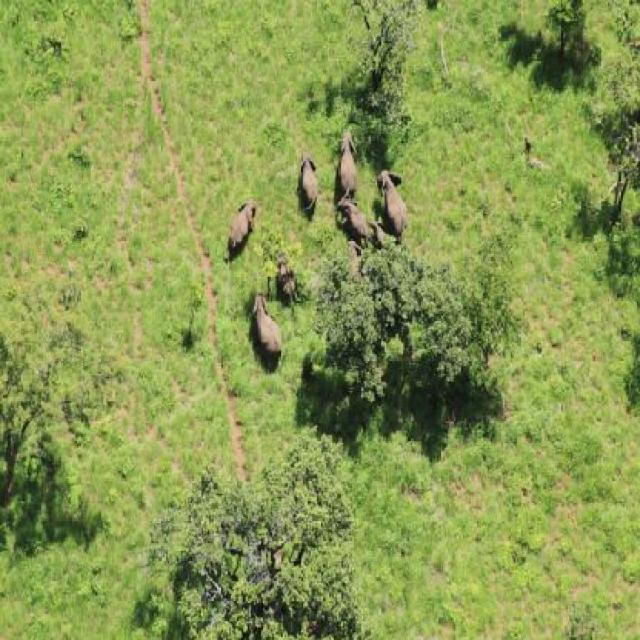elephant: (240, 292, 288, 368), (282, 142, 324, 212), (215, 189, 259, 253), (333, 188, 375, 248), (330, 123, 364, 195), (282, 248, 306, 290), (374, 159, 381, 173)
